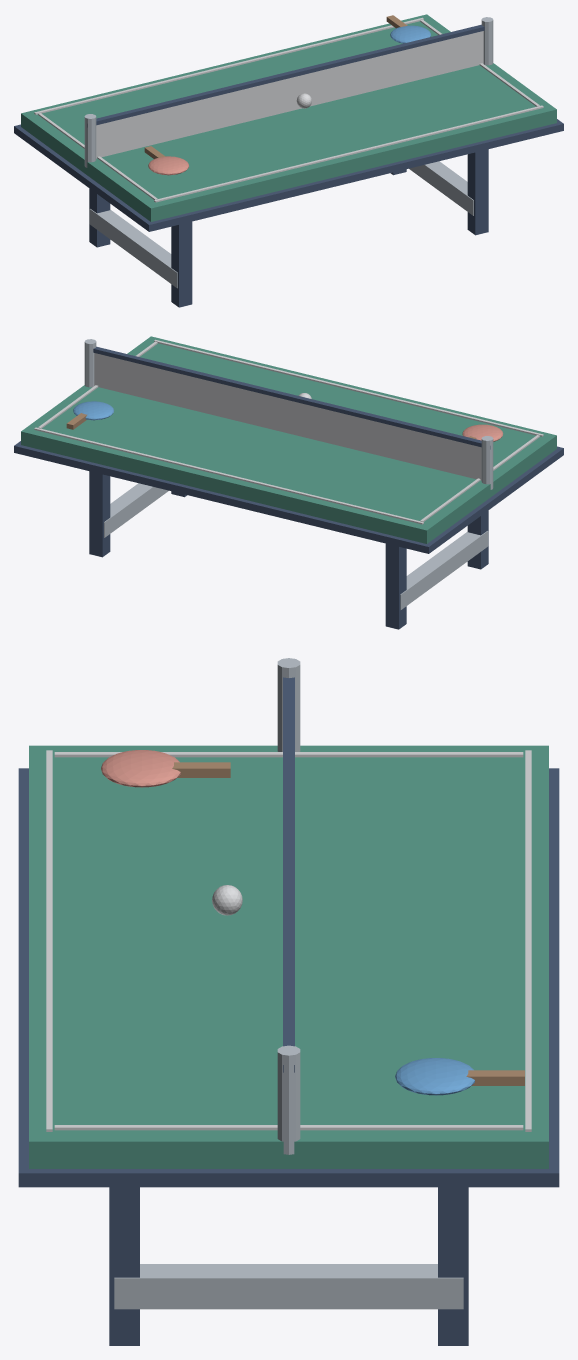
File: ping_pong_table_v2.glb
The picture shows the model from 3 angles, top to bottom: view 1: azimuth 30°, elevation 25°; view 2: azimuth 150°, elevation 25°; view 3: azimuth 270°, elevation 25°; orthographic projection. The views are drawn at different scales.
Parts seen in each view (by area): view 1: tabletop, net_mesh, table_edge, net_tape, crossbar_-1.0, leg_-1.0_0.48, leg_1.0_0.48, crossbar_1.0, line_long_front, line_long_back, line_long_top, leg_-1.0_-0.48 (+5 smaller); view 2: tabletop, net_mesh, table_edge, net_tape, crossbar_-1.0, leg_-1.0_-0.48, leg_1.0_-0.48, crossbar_1.0, line_long_back, line_long_front, line_long_top, leg_-1.0_0.48 (+5 smaller); view 3: tabletop, table_edge, crossbar_1.0, net_tape, leg_1.0_-0.48, leg_1.0_0.48, line_short_R, line_long_front, line_long_back, net_post_1.34, line_short_L, paddle_head_1 (+4 smaller).
Boxes of the visible parts, bbox=[...] form: tabletop: bbox=[21, 14, 556, 221]; net_mesh: bbox=[96, 31, 483, 157]; table_edge: bbox=[14, 119, 563, 231]; net_tape: bbox=[87, 24, 484, 127]; crossbar_-1.0: bbox=[89, 209, 177, 288]; leg_-1.0_0.48: bbox=[171, 221, 192, 307]; leg_1.0_0.48: bbox=[467, 149, 488, 235]; crossbar_1.0: bbox=[409, 161, 473, 215]; line_long_front: bbox=[154, 105, 543, 202]; line_long_back: bbox=[34, 17, 423, 114]; line_long_top: bbox=[96, 63, 483, 158]; leg_-1.0_-0.48: bbox=[89, 188, 110, 247]; tabletop: bbox=[21, 336, 556, 543]; net_mesh: bbox=[94, 353, 481, 479]; table_edge: bbox=[14, 441, 563, 553]; net_tape: bbox=[93, 346, 490, 449]; crossbar_-1.0: bbox=[400, 531, 488, 610]; leg_-1.0_-0.48: bbox=[385, 543, 406, 629]; leg_1.0_-0.48: bbox=[89, 471, 110, 557]; crossbar_1.0: bbox=[104, 483, 168, 537]; line_long_back: bbox=[34, 427, 423, 524]; line_long_front: bbox=[154, 339, 543, 436]; line_long_top: bbox=[94, 385, 481, 480]; leg_-1.0_0.48: bbox=[467, 510, 488, 569]; tabletop: bbox=[29, 745, 548, 1168]; table_edge: bbox=[18, 768, 559, 1187]; crossbar_1.0: bbox=[114, 1264, 463, 1309]; net_tape: bbox=[283, 677, 294, 1072]; leg_1.0_-0.48: bbox=[438, 1187, 468, 1345]; leg_1.0_0.48: bbox=[109, 1187, 139, 1345]; line_short_R: bbox=[54, 1125, 523, 1130]; line_long_front: bbox=[46, 750, 52, 1131]; line_long_back: bbox=[525, 750, 531, 1131]; net_post_1.34: bbox=[277, 1045, 300, 1154]; line_short_L: bbox=[54, 752, 523, 757]; paddle_head_1: bbox=[395, 1058, 474, 1095].
Size of the model in its own units: 2.8 by 1.09 by 1.58.
